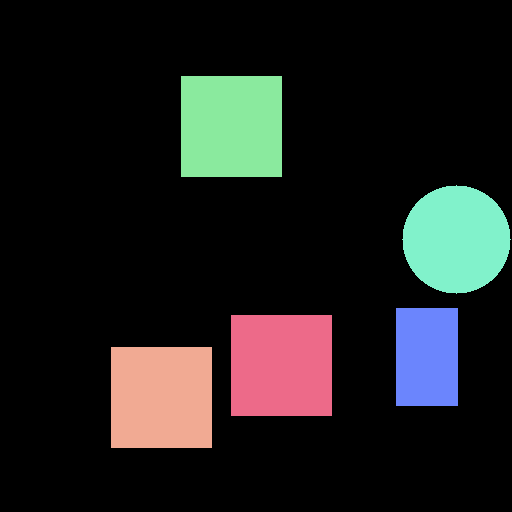circle: (402, 185, 510, 293)
rectangle: (396, 308, 457, 405)
square: (111, 347, 211, 447), (231, 315, 331, 415), (181, 76, 281, 176)
